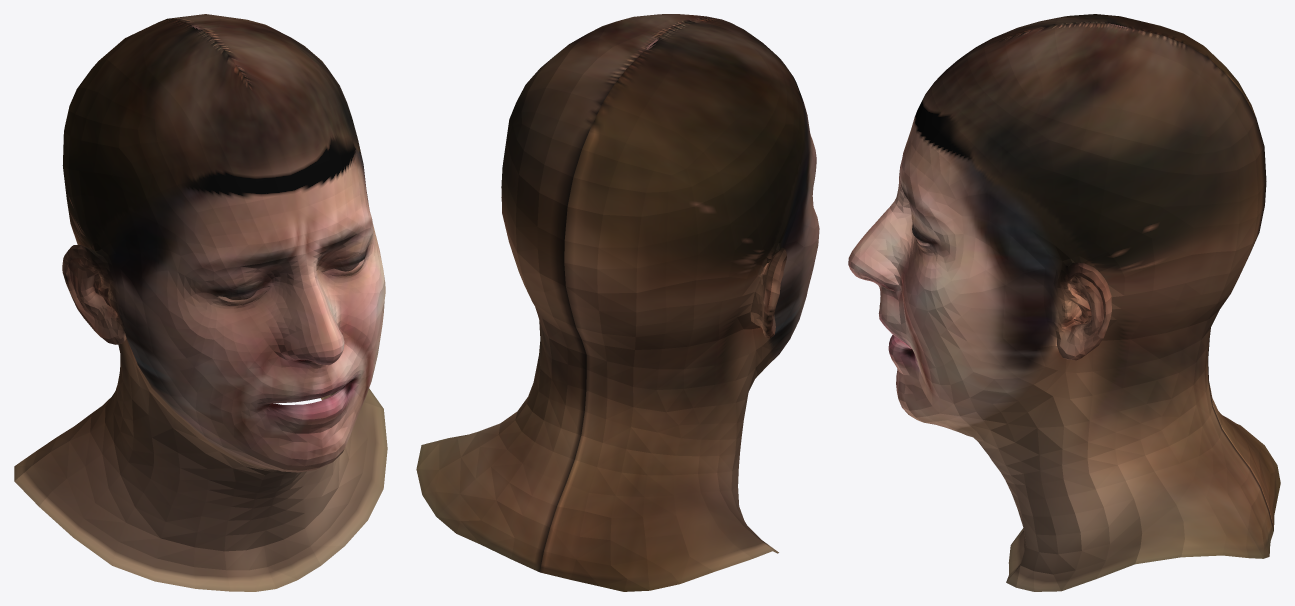
The model's file is face_video_frame0637.obj.
3 renders of one model, left to right at view 1: azimuth 30°, elevation 25°; view 2: azimuth 150°, elevation 25°; view 3: azimuth 270°, elevation 25°, orthographic.
Bounding box in the file's own units: 0.2175 × 0.3235 × 0.2354.
1 material, 1 textured.
